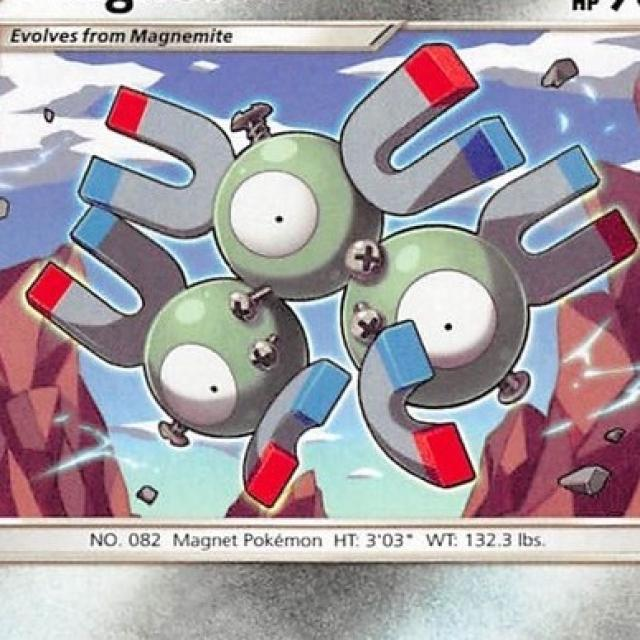Magneton: (77, 82, 600, 449)
